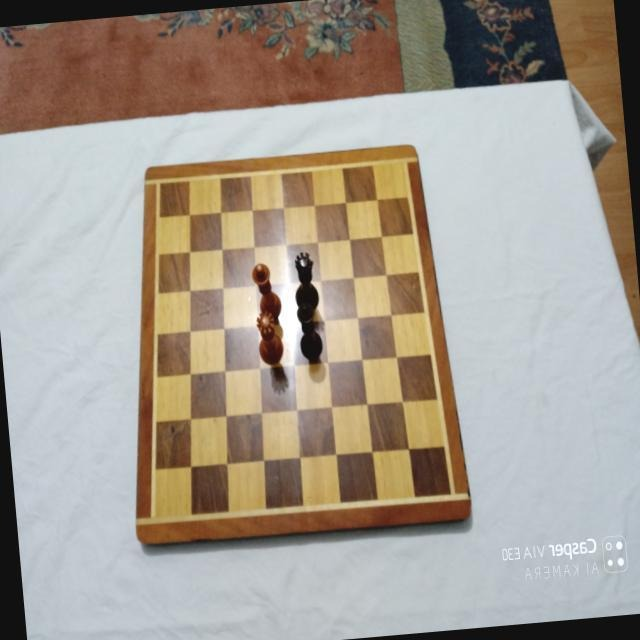black-king: (296, 299, 324, 361)
black-queen: (291, 249, 320, 311)
white-king: (249, 260, 282, 318)
white-queen: (253, 307, 284, 365)
